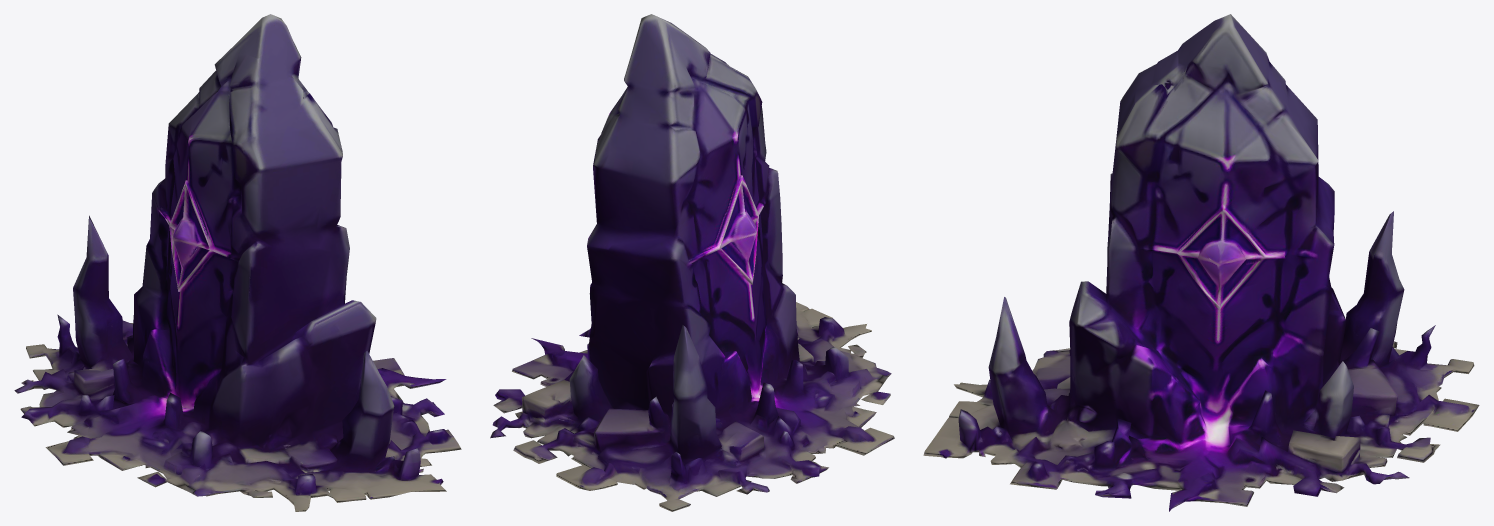
The model's file is SM_Prop_CrystalCluster_01.fbx.
The picture shows the model from 3 angles, left to right: view 1: azimuth 30°, elevation 25°; view 2: azimuth 150°, elevation 25°; view 3: azimuth 270°, elevation 25°; orthographic projection. The views are drawn at different scales.
Visible parts, largest first — view 1: SM_Prop_CrystalCluster_01; view 2: SM_Prop_CrystalCluster_01; view 3: SM_Prop_CrystalCluster_01.
Boxes of the visible parts, x1,y1,x2,y2 form: SM_Prop_CrystalCluster_01: (14,14,461,511); SM_Prop_CrystalCluster_01: (490,14,894,511); SM_Prop_CrystalCluster_01: (923,14,1479,511).
Size of the model in its own units: 0.8501 by 0.836 by 1.
Materials: 1 (1 with a texture image).
